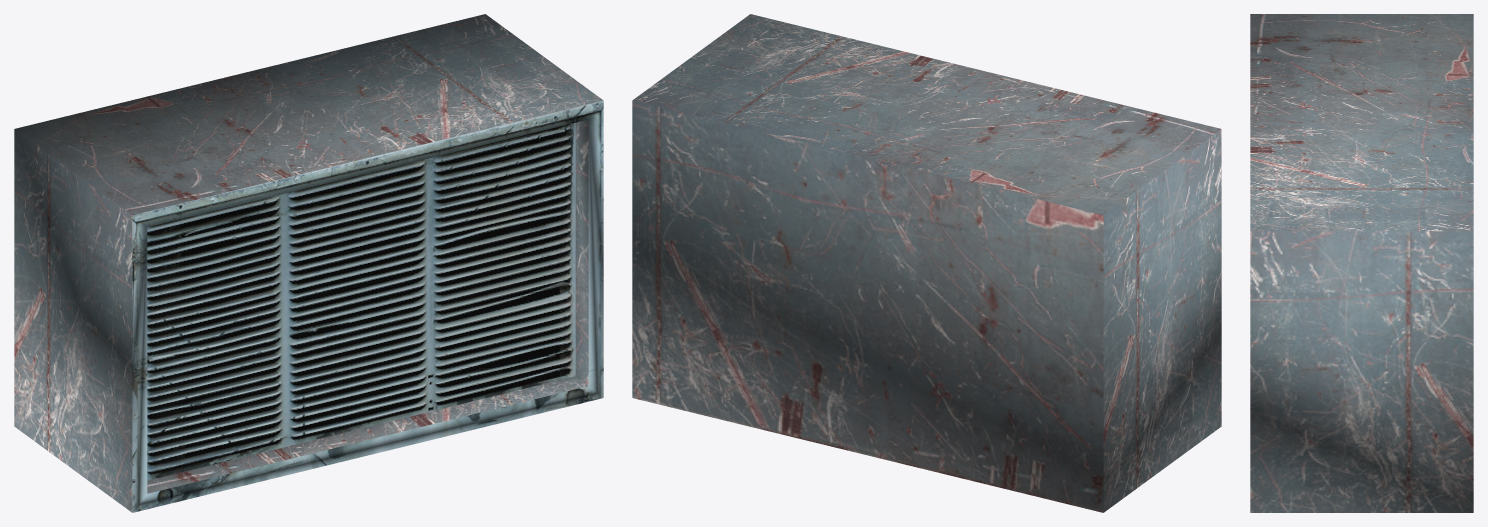
File: clima2.fbx
3 views of the same model, side by side, from view 1: azimuth 30°, elevation 25°; view 2: azimuth 150°, elevation 25°; view 3: azimuth 270°, elevation 25° (orthographic). The views are drawn at different scales.
Visible parts, largest first — view 1: clima2; view 2: clima2; view 3: clima2.
Part boxes in pixels (x1,y1,x2,y2): clima2: (14,14,603,512); clima2: (632,14,1221,512); clima2: (1250,14,1473,512).
Size of the model in its own units: 159 by 96 by 69.
